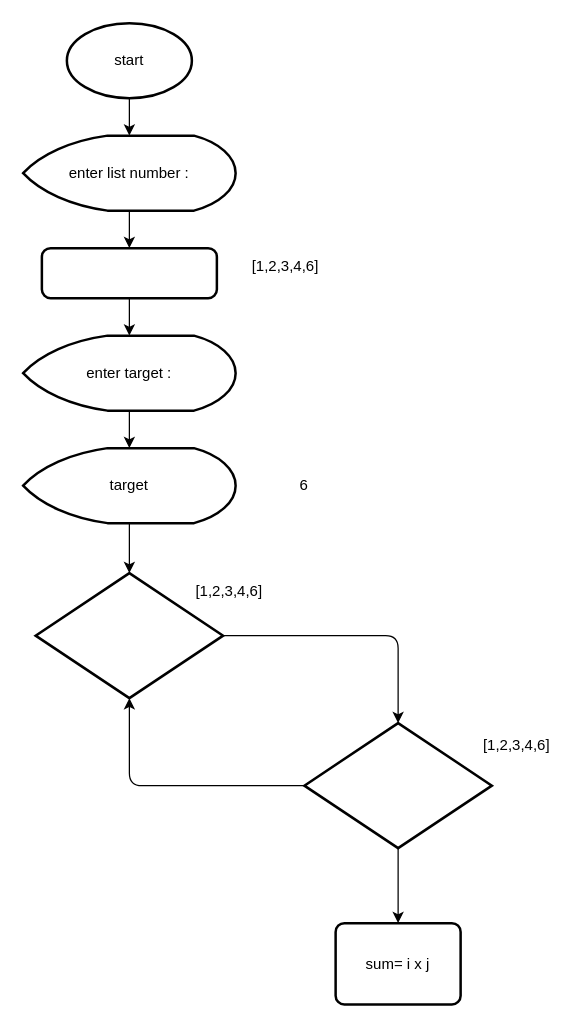
Image size: 575x1026. Some labels were removed from this diagram. Here are the shapes that lost their labels. From the top down, the centre of each, then its label:
At [129,272]: "nums".
At [129,635]: "for i in nums".
At [397,785]: "for j in nums".
